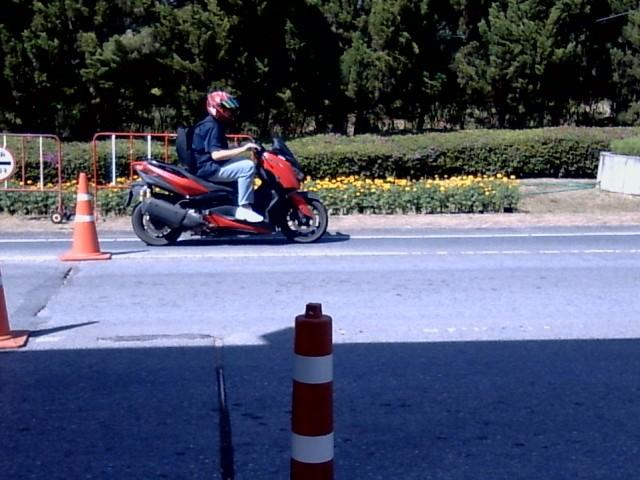helmet: (205, 88, 239, 119)
motor: (125, 137, 327, 244)
person: (191, 91, 261, 221)
